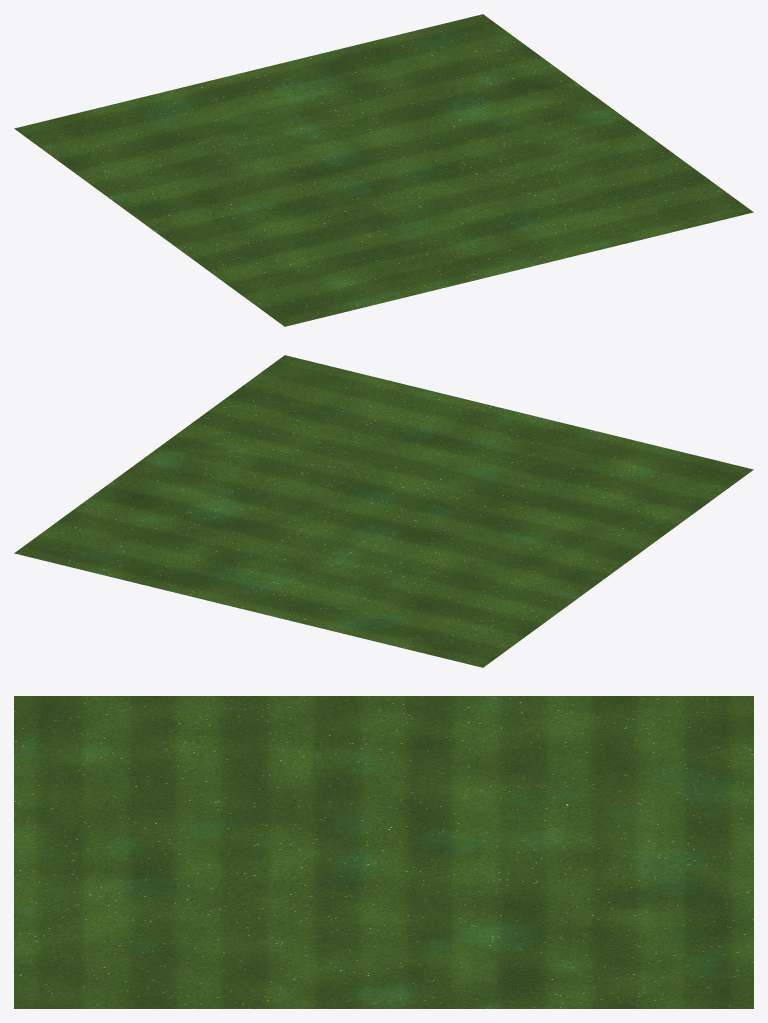
Rendered from lawn_patch.glb.
3 renders of one model, top to bottom at view 1: azimuth 30°, elevation 25°; view 2: azimuth 150°, elevation 25°; view 3: azimuth 270°, elevation 25°, orthographic. The views are drawn at different scales.
Visible parts, largest first — view 1: Mown lawn grass; view 2: Mown lawn grass; view 3: Mown lawn grass.
Part boxes in pixels (x1,y1,x2,y2): Mown lawn grass: [14, 14, 753, 326]; Mown lawn grass: [14, 355, 753, 667]; Mown lawn grass: [14, 696, 753, 1008].
Size of the model in its own units: 12 by 0.0808 by 12.
Materials: 1 (1 with a texture image).
